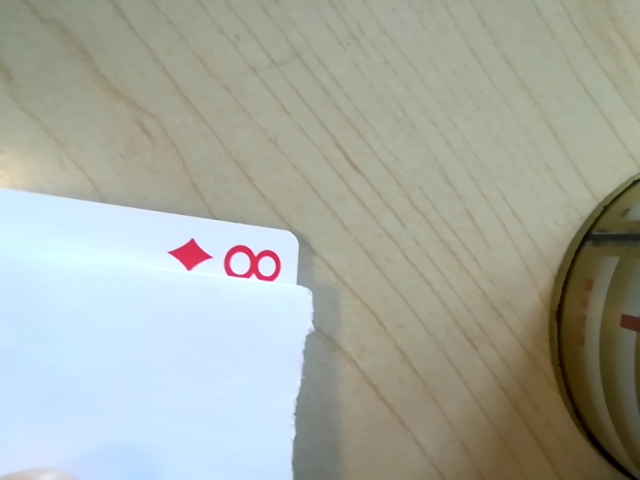fk 8: (168, 233, 300, 290)
